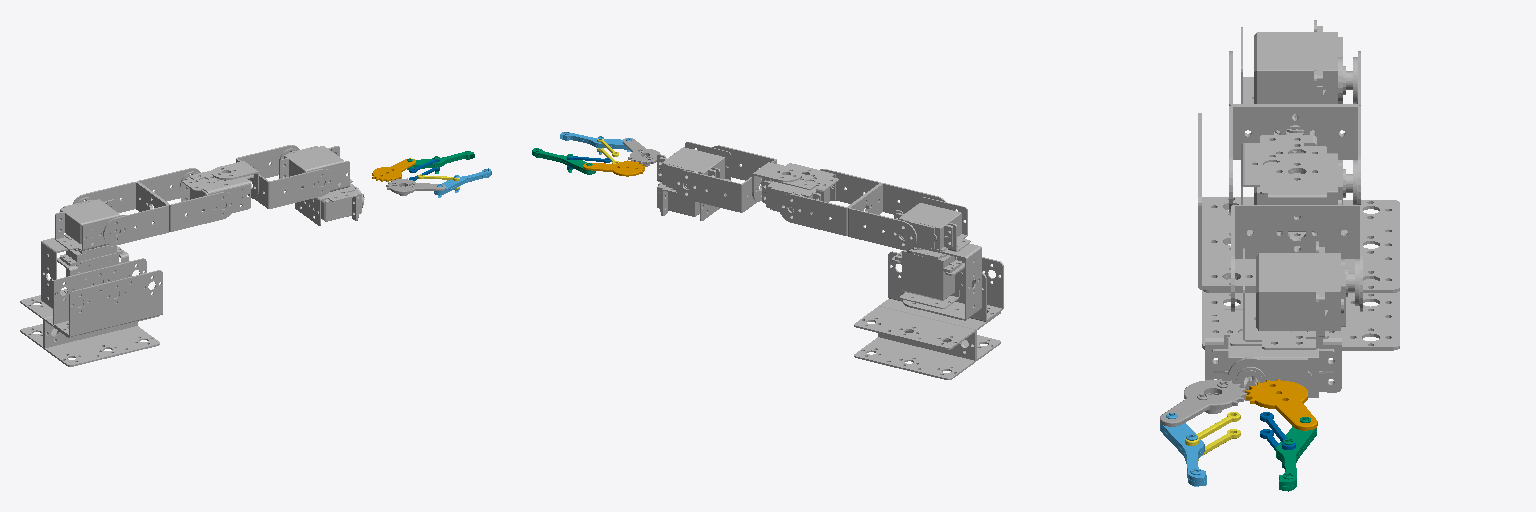
robot.urdf — aligned_arm:
<?xml version="1.0"?>
<!-- This URDF was automatically created by SolidWorks to URDF Exporter! Originally created by [author] ([email redacted]) 
     Commit Version: 1.6.0-4-g7f85cfe  Build Version: 1.6.7995.38578
     For more information, please see http://wiki.ros.org/sw_urdf_exporter -->
<robot
  name="aligned_arm"
  xmlns:xacro="http://ros.org/wiki/xacro">
  <link name="world"/>

  <link name="base_link">
    <inertial>
      <origin
        xyz="-0.00944732691721334 -0.00485491048454716 0.0434935093034806"
        rpy="0 0 0" />
      <mass
        value="0.0724481766269399" />
      <inertia
        ixx="0.001"
        ixy="0"
        ixz="0"
        iyy="0.001"
        iyz="0"
        izz="0.001"/>

    </inertial>
    <visual>
      <origin
        xyz="0 0 0"
        rpy="0 0 0" />
      <geometry>
        <mesh
          filename="package://aligned_arm/meshes/base_link.STL" />
      </geometry>
      <material
        name="">
        <color
          rgba="0.752941176470588 0.752941176470588 0.752941176470588 1" />
      </material>
    </visual>
    <collision>
      <origin
        xyz="0 0 0"
        rpy="0 0 0" />
      <geometry>
        <mesh
          filename="package://aligned_arm/meshes/base_link.STL" />
      </geometry>
    </collision>
  </link>
  
  <link name="shoulder">
    <inertial>
      <origin
        xyz="-0.0138375246543273 -0.000136423090262103 0.0642577277432398"
        rpy="0 0 0" />
      <mass
        value="0.0383299135323012" />
      <inertia
        ixx="0.001"
        ixy="0"
        ixz="0"
        iyy="0.001"
        iyz="0"
        izz="0.001"/>
    </inertial>
    <visual>
      <origin
        xyz="0 0 0"
        rpy="0 0 0" />
      <geometry>
        <mesh
          filename="package://aligned_arm/meshes/shoulder.STL" />
      </geometry>
      <material
        name="">
        <color
          rgba="0.752941176470588 0.752941176470588 0.752941176470588 1" />
      </material>
    </visual>
    <collision>
      <origin
        xyz="0 0 0"
        rpy="0 0 0" />
      <geometry>
        <mesh
          filename="package://aligned_arm/meshes/shoulder.STL" />
      </geometry>
    </collision>
  </link>
  
  <link name="elbow">
    <inertial>
      <origin
        xyz="0.0515 0 0.00141467083630039"
        rpy="0 0 0" />
      <mass
        value="0.013540978703673" />
      <inertia
        ixx="0.001"
        ixy="0"
        ixz="0"
        iyy="0.001"
        iyz="0"
        izz="0.001"/>
    </inertial>
    <visual>
      <origin
        xyz="0 0 0"
        rpy="0 0 0" />
      <geometry>
        <mesh
          filename="package://aligned_arm/meshes/elbow.STL" />
      </geometry>
      <material
        name="">
        <color
          rgba="0.752941176470588 0.752941176470588 0.752941176470588 1" />
      </material>
    </visual>
    <collision>
      <origin
        xyz="0 0 0"
        rpy="0 0 0" />
      <geometry>
        <mesh
          filename="package://aligned_arm/meshes/elbow.STL" />
      </geometry>
    </collision>
  </link>
  
  <link name="wrist">
    <inertial>
      <origin
        xyz="0.0206267882659475 -0.000711621284712166 0.000259074135945421"
        rpy="0 0 0" />
      <mass
        value="0.0403064898175783" />
      <inertia
        ixx="0.001"
        ixy="0"
        ixz="0"
        iyy="0.001"
        iyz="0"
        izz="0.001"/>
    </inertial>
    <visual>
      <origin
        xyz="0 0 0"
        rpy="0 0 0" />
      <geometry>
        <mesh
          filename="package://aligned_arm/meshes/wrist.STL" />
      </geometry>
      <material
        name="">
        <color
          rgba="0.752941176470588 0.752941176470588 0.752941176470588 1" />
      </material>
    </visual>
    <collision>
      <origin
        xyz="0 0 0"
        rpy="0 0 0" />
      <geometry>
        <mesh
          filename="package://aligned_arm/meshes/wrist.STL" />
      </geometry>
    </collision>
  </link>
  
  <link name="wrist2">
    <inertial>
      <origin
        xyz="0.0134999999994358 -0.0148568442704152 -0.00474215572827058"
        rpy="0 0 0" />
      <mass
        value="0.0631188483632319" />
      <inertia
        ixx="0.001"
        ixy="0"
        ixz="0"
        iyy="0.001"
        iyz="0"
        izz="0.001"/>
    </inertial>
    <visual>
      <origin
        xyz="0 0 0"
        rpy="0 0 0" />
      <geometry>
        <mesh
          filename="package://aligned_arm/meshes/wrist2.STL" />
      </geometry>
      <material
        name="">
        <color
          rgba="0.752941176470588 0.752941176470588 0.752941176470588 1" />
      </material>
    </visual>
    <collision>
      <origin
        xyz="0 0 0"
        rpy="0 0 0" />
      <geometry>
        <mesh
          filename="package://aligned_arm/meshes/wrist2.STL" />
      </geometry>
    </collision>
  </link>

  <!-- GRIPPER -->
   <!-- ================= GRIPPER (GAZEBO-SAFE) ================= -->

<link name="end_base">
  <inertial>
    <origin xyz="0 0 0"/>
    <mass value="0.4"/>
    <inertia ixx="0.01" iyy="0.01" izz="0.01"
             ixy="0" ixz="0" iyz="0"/>
  </inertial>

  <visual>
    <geometry>
      <mesh filename="package://aligned_arm/meshes/end_base.STL"/>
    </geometry>
  </visual>

  <!-- simplified collision -->
  <collision>
    <geometry>
      <box size="0.05 0.05 0.02"/>
    </geometry>
  </collision>
</link>

<!-- attach gripper base
<joint name="end_joint" type="fixed">
  <origin xyz="0.023 -0.045 -0.02"
          rpy="1.57 0 -1.57"/>
  <parent link="wrist2"/>
  <child link="end_base"/>
</joint> -->

<!-- ================= VISUAL-ONLY FINGERS ================= -->

<link name="gear_right">
  <visual>
    <geometry>
      <mesh filename="package://aligned_arm/meshes/gear_right.STL"/>
    </geometry>
  </visual>
</link>

<joint name="gear_right_joint" type="fixed">
  <origin xyz="0.03 -0.015741 0.0043" rpy="0 0 -0.60373"/>
  <parent link="end_base"/>
  <child link="gear_right"/>
</joint>

<link name="gear_left">
  <visual>
    <geometry>
      <mesh filename="package://aligned_arm/meshes/gear_left.STL"/>
    </geometry>
  </visual>
</link>

<joint name="gear_left_joint" type="fixed">
  <origin xyz="0.0305 0.01226 0.0068" rpy="0 0 0.3732"/>
  <parent link="end_base"/>
  <child link="gear_left"/>
</joint>

<link name="finger_right">
  <visual>
    <geometry>
      <mesh filename="package://aligned_arm/meshes/finger_right.STL"/>
    </geometry>
  </visual>
</link>

<joint name="finger_right_joint" type="fixed">
  <origin xyz="0.030762 0 0.0025" rpy="0 0 0.98133"/>
  <parent link="gear_right"/>
  <child link="finger_right"/>
</joint>

<link name="finger_left">
  <visual>
    <geometry>
      <mesh filename="package://aligned_arm/meshes/finger_left.STL"/>
    </geometry>
  </visual>
</link>

<joint name="finger_left_joint" type="fixed">
  <origin xyz="0.030762 0 0" rpy="0 0 -0.68869"/>
  <parent link="gear_left"/>
  <child link="finger_left"/>
</joint>

<link name="anchor_right">
  <visual>
    <geometry>
      <mesh filename="package://aligned_arm/meshes/anchor_right.STL"/>
    </geometry>
  </visual>
</link>

<joint name="anchor_right_joint" type="fixed">
  <origin xyz="0.0525 -0.007 0.0068" rpy="0 0 -0.6321"/>
  <parent link="end_base"/>
  <child link="anchor_right"/>
</joint>

<link name="anchor_left">
  <visual>
    <geometry>
      <mesh filename="package://aligned_arm/meshes/anchor_left.STL"/>
    </geometry>
  </visual>
</link>

<joint name="anchor_left_joint" type="fixed">
  <origin xyz="0.0525 0.007 0.0068" rpy="0 0 0.31658"/>
  <parent link="end_base"/>
  <child link="anchor_left"/>
</joint>

<!-- ================= OLD GRIPPER ================= -->
<!-- Resurrect this if you want the gripper to work and are brave -->
 
  <!-- <link
    name="end_base">
    <inertial>
      <origin xyz="0 0 0" rpy="0 0 0"/>
      <mass value="0.4"/>
      <inertia
        ixx="0.01"
        ixy="0.0"
        ixz="0.0"
        iyy="0.01"
        iyz="0.0"
        izz="0.01"/>
    </inertial>

    <visual>
      <origin
        xyz="0 0 0"
        rpy="0 0 0" />
      <geometry>
        <mesh
          filename="package://aligned_arm/meshes/end_base.STL" />
      </geometry>
      <material
        name="">
        <color
          rgba="0.792156862745098 0.819607843137255 0.933333333333333 1" />
      </material>
    </visual>
    <collision>
      <origin
        xyz="0 0 0"
        rpy="0 0 0" />
      <geometry>
        <mesh
          filename="package://aligned_arm/meshes/end_base.STL" />
      </geometry>
    </collision>
  </link>
  <link
    name="gear_right">
    <inertial>
      <origin xyz="0 0 0" rpy="0 0 0"/>
      <mass value="0.1"/>
      <inertia
        ixx="0.01"
        ixy="0.0"
        ixz="0.0"
        iyy="0.01"
        iyz="0.0"
        izz="0.01"/>
    </inertial>

    <visual>
      <origin
        xyz="0 0 0"
        rpy="0 0 0" />
      <geometry>
        <mesh
          filename="package://aligned_arm/meshes/gear_right.STL" />
      </geometry>
      <material
        name="">
        <color
          rgba="0.792156862745098 0.819607843137255 0.933333333333333 1" />
      </material>
    </visual>
    <collision>
      <origin
        xyz="0 0 0"
        rpy="0 0 0" />
      <geometry>
        <mesh
          filename="package://aligned_arm/meshes/gear_right.STL" />
      </geometry>
    </collision>
  </link>
  <joint
    name="gear_right_joint"
    type="revolute">
    <origin
      xyz="0.03 -0.015741 0.0043"
      rpy="0 0 -0.60373" />
    <parent
      link="end_base" />
    <child
      link="gear_right" />
    <axis
      xyz="0 0 -1" />
    <limit
      lower="-1.57"
      upper="1.57"
      effort="1"
      velocity="1" />
    <dynamics damping="0.5" friction="0.1"/>
  </joint>
  <link
    name="finger_right">
    <inertial>
      <origin xyz="0 0 0" rpy="0 0 0"/>
      <mass value="0.1"/>
      <inertia
        ixx="0.01"
        ixy="0.0"
        ixz="0.0"
        iyy="0.01"
        iyz="0.0"
        izz="0.01"/>
    </inertial>

    <visual>
      <origin
        xyz="0 0 0"
        rpy="0 0 0" />
      <geometry>
        <mesh
          filename="package://aligned_arm/meshes/finger_right.STL" />
      </geometry>
      <material
        name="">
        <color
          rgba="0.792156862745098 0.819607843137255 0.933333333333333 1" />
      </material>
    </visual>
    <collision>
      <origin
        xyz="0 0 0"
        rpy="0 0 0" />
      <geometry>
        <mesh
          filename="package://aligned_arm/meshes/finger_right.STL" />
      </geometry>
    </collision>
  </link>
  <joint
    name="finger_right_joint"
    type="revolute">
    <origin
      xyz="0.030762 0 0.0025"
      rpy="0 0 0.98133" />
    <parent
      link="gear_right" />
    <child
      link="finger_right" />
    <axis
      xyz="0 0 1" />
    <limit
      lower="-1.57"
      upper="1.57"
      effort="1"
      velocity="1" />
    <mimic
      joint="gear_right_joint"
      multiplier="1"
      offset="0" />
    <dynamics damping="0.5" friction="0.1"/>
  </joint>
  <link
    name="gear_left">
    <inertial>
      <origin xyz="0 0 0" rpy="0 0 0"/>
      <mass value="0.1"/>
      <inertia
        ixx="0.01"
        ixy="0.0"
        ixz="0.0"
        iyy="0.01"
        iyz="0.0"
        izz="0.01"/>
    </inertial>

    <visual>
      <origin
        xyz="0 0 0"
        rpy="0 0 0" />
      <geometry>
        <mesh
          filename="package://aligned_arm/meshes/gear_left.STL" />
      </geometry>
      <material
        name="">
        <color
          rgba="0.792156862745098 0.819607843137255 0.933333333333333 1" />
      </material>
    </visual>
    <collision>
      <origin
        xyz="0 0 0"
        rpy="0 0 0" />
      <geometry>
        <mesh
          filename="package://aligned_arm/meshes/gear_left.STL" />
      </geometry>
    </collision>
  </link>
  <joint
    name="gear_left_joint"
    type="revolute">
    <origin
      xyz="0.0305 0.01226 0.0068"
      rpy="0 0 0.3732" />
    <parent
      link="end_base" />
    <child
      link="gear_left" />
    <axis
      xyz="0 0 -1" />
    <limit
      lower="-1.57"
      upper="1.57"
      effort="1"
      velocity="1" />
    <mimic
      joint="gear_right_joint"
      multiplier="-1"
      offset="0" />
    <dynamics damping="0.5" friction="0.1"/>
  </joint>
  <link
    name="finger_left">
    <inertial>
      <origin xyz="0 0 0" rpy="0 0 0"/>
      <mass value="0.1"/>
      <inertia
        ixx="0.01"
        ixy="0.0"
        ixz="0.0"
        iyy="0.01"
        iyz="0.0"
        izz="0.01"/>
    </inertial>

    <visual>
      <origin
        xyz="0 0 0"
        rpy="0 0 0" />
      <geometry>
        <mesh
          filename="package://aligned_arm/meshes/finger_left.STL" />
      </geometry>
      <material
        name="">
        <color
          rgba="0.792156862745098 0.819607843137255 0.933333333333333 1" />
      </material>
    </visual>
    <collision>
      <origin
        xyz="0 0 0"
        rpy="0 0 0" />
      <geometry>
        <mesh
          filename="package://aligned_arm/meshes/finger_left.STL" />
      </geometry>
    </collision>
  </link>
  <joint
    name="finger_left_joint"
    type="revolute">
    <origin
      xyz="0.030762 0 0"
      rpy="0 0 -0.68869" />
    <parent
      link="gear_left" />
    <child
      link="finger_left" />
    <axis
      xyz="0 0 1" />
    <limit
      lower="-1.57"
      upper="1.57"
      effort="1"
      velocity="1" />
    <mimic
      joint="gear_left_joint"
      multiplier="1"
      offset="0" />
    <dynamics damping="0.5" friction="0.1"/>
  </joint>
  <link
    name="anchor_right">
    <inertial>
      <origin xyz="0 0 0" rpy="0 0 0"/>
      <mass value="0.1"/>
      <inertia
        ixx="0.01"
        ixy="0.0"
        ixz="0.0"
        iyy="0.01"
        iyz="0.0"
        izz="0.01"/>
    </inertial>

    <visual>
      <origin
        xyz="0 0 0"
        rpy="0 0 0" />
      <geometry>
        <mesh
          filename="package://aligned_arm/meshes/anchor_right.STL" />
      </geometry>
      <material
        name="">
        <color
          rgba="0.792156862745098 0.819607843137255 0.933333333333333 1" />
      </material>
    </visual>
    <collision>
      <origin
        xyz="0 0 0"
        rpy="0 0 0" />
      <geometry>
        <mesh
          filename="package://aligned_arm/meshes/anchor_right.STL" />
      </geometry>
    </collision>
  </link>
  <joint
    name="anchor_right_joint"
    type="revolute">
    <origin
      xyz="0.0525 -0.007 0.0068"
      rpy="0 0 -0.6321" />
    <parent
      link="end_base" />
    <child
      link="anchor_right" />
    <axis
      xyz="0 0 -1" />
    <limit
      lower="-1.57"
      upper="1.57"
      effort="1"
      velocity="1" />
    <mimic
      joint="gear_right_joint"
      multiplier="1"
      offset="0" />
    <dynamics damping="0.5" friction="0.1"/>
  </joint>
  <link
    name="anchor_left">
    <inertial>
      <origin xyz="0 0 0" rpy="0 0 0"/>
      <mass value="0.1"/>
      <inertia
        ixx="0.01"
        ixy="0.0"
        ixz="0.0"
        iyy="0.01"
        iyz="0.0"
        izz="0.01"/>
    </inertial>

    <visual>
      <origin
        xyz="0 0 0"
        rpy="0 0 0" />
      <geometry>
        <mesh
          filename="package://aligned_arm/meshes/anchor_left.STL" />
      </geometry>
      <material
        name="">
        <color
          rgba="0.792156862745098 0.819607843137255 0.933333333333333 1" />
      </material>
    </visual>
    <collision>
      <origin
        xyz="0 0 0"
        rpy="0 0 0" />
      <geometry>
        <mesh
          filename="package://aligned_arm/meshes/anchor_left.STL" />
      </geometry>
    </collision>
  </link>
  <joint
    name="anchor_left_joint"
    type="revolute">
    <origin
      xyz="0.0525 0.007 0.0068"
      rpy="0 0 0.31658" />
    <parent
      link="end_base" />
    <child
      link="anchor_left" />
    <axis
      xyz="0 0 -1" />
    <limit
      lower="-1.57"
      upper="1.57"
      effort="1"
      velocity="1" />
    <mimic
      joint="gear_left_joint"
      multiplier="1"
      offset="0" />
    <dynamics damping="0.5" friction="0.1"/>
  </joint> -->

  <link name="wrist_camera_link"/>
  <joint name="wrist_camera_joint" type="fixed">
    <parent link="end_base"/>
    <child link="wrist_camera_link"/>
    <origin xyz="0.05 0 0.05" rpy="0 0 0"/>
  </joint>

  <gazebo reference="wrist_camera_link">
    <sensor type="camera" name="wrist_camera">
      <always_on>true</always_on>
      <update_rate>30</update_rate>

      <camera>
        <horizontal_fov>1.047</horizontal_fov>
        <image>
          <width>640</width>
          <height>480</height>
          <format>R8G8B8</format>
        </image>
        <clip>
          <near>0.01</near>
          <far>10.0</far>
        </clip>
      </camera>

      <plugin name="gazebo_ros_camera" filename="libgazebo_ros_camera.so">
        <camera_name>wrist_camera</camera_name>
        <frame_name>wrist_camera_link</frame_name>
        <image_topic_name>image_raw</image_topic_name>
        <camera_info_topic_name>camera_info</camera_info_topic_name>
      </plugin>
    </sensor>
  </gazebo>

  <!-- JOINTS -->
  <joint name="world_joint" type="fixed">
    <parent link="world"/>
    <child link="base_link"/>
  </joint>

  <joint name="bas_jnt"
    type="continuous">
    <origin
      xyz="0 0 0.037367"
      rpy="0 0 0" />
    <parent
      link="base_link" />
    <child
      link="shoulder" />
    <axis
      xyz="0 0 -1" />
    <dynamics damping="2.0" friction="0.1"/>

  </joint>
  <joint name="shl_jnt"
    type="continuous">
    <origin
      xyz="-0.001501 0 0.071733"
      rpy="-1.5708 0 0" />
    <parent
      link="shoulder" />
    <child
      link="elbow" />
    <axis
      xyz="0 0 -1" />
    <dynamics damping="2.0" friction="0.1"/>
    
  </joint>

  <joint name="elb_jnt"
    type="continuous">
    <origin
      xyz="0.103 0 0"
      rpy="0 0 0" />
    <parent
      link="elbow" />
    <child
      link="wrist" />
    <axis
      xyz="0 0 -1" />
    <dynamics damping="2.0" friction="0.1"/>

   </joint>
   <joint
    name="wri_jnt"
    type="continuous">
    <origin
      xyz="0.096499 0.0015 0"
      rpy="0 0 1.5708" />
    <parent
      link="wrist" />
    <child
      link="wrist2" />
    <axis
      xyz="0 0 -1" />
    <dynamics damping="2.0" friction="0.1"/>
  </joint>
  
  <!-- GRIPPER JOINT  -->
    <joint
    name="end_joint"
    type="revolute">
    <origin
      xyz="0.023 -0.045 -0.02"
      rpy="1.57 0 -1.57" />
      <!-- rpy = "0 0 0" />-->
    <parent
      link="wrist2" />
    <child
      link="end_base" />
    <axis
      xyz="-1 0 0" />
    <limit
      lower="-1.57"
      upper="1.57"
      effort="1"
      velocity="1" />
    <dynamics damping="2.0" friction="0.1"/>
  </joint>
</robot>

--- Facts derived from the render (not from the file) ---
3 views of the same robot in one strip: view 1: azimuth 30°, elevation 25°; view 2: azimuth 150°, elevation 25°; view 3: azimuth 270°, elevation 25° (orthographic).
Model aligned_arm with 14 links and 13 joints (1 revolute, 4 continuous, 8 fixed), rooted at world, posed every joint at zero.
Links seen in each view (by area): view 1: base_link, elbow, wrist, wrist2, shoulder, gear_right; view 2: base_link, elbow, wrist, shoulder, wrist2, gear_left, gear_right, finger_right, finger_left; view 3: wrist2, wrist, base_link, shoulder, elbow, gear_right, gear_left, finger_right, finger_left, anchor_right, anchor_left.
Link boxes in pixels (x1,y1,x2,y2): base_link: [20, 245, 162, 366]; elbow: [73, 168, 235, 245]; wrist: [181, 145, 333, 214]; wrist2: [279, 146, 364, 225]; shoulder: [41, 199, 124, 308]; gear_right: [386, 178, 445, 195]; base_link: [854, 247, 1003, 379]; elbow: [778, 169, 945, 249]; wrist: [673, 145, 838, 214]; shoulder: [894, 197, 981, 320]; wrist2: [657, 142, 730, 220]; gear_left: [583, 160, 644, 176]; gear_right: [623, 138, 659, 166]; finger_right: [560, 132, 631, 154]; finger_left: [532, 148, 595, 174]; wrist2: [1205, 241, 1347, 400]; wrist: [1231, 135, 1362, 311]; base_link: [1198, 113, 1399, 350]; shoulder: [1241, 20, 1345, 237]; elbow: [1229, 51, 1360, 212]; gear_right: [1160, 379, 1246, 426]; gear_left: [1245, 379, 1317, 430]; finger_right: [1160, 413, 1206, 486]; finger_left: [1276, 417, 1316, 491]; anchor_right: [1185, 412, 1240, 460]; anchor_left: [1260, 412, 1295, 466].
Bounding box of the posed robot: 0.4135 × 0.1021 × 0.1241 m (x, y, z).
11 mesh visuals loaded from 12 distinct referenced files (11 binary STL); not drawn: 1 (reference not matched to a file when rendering).